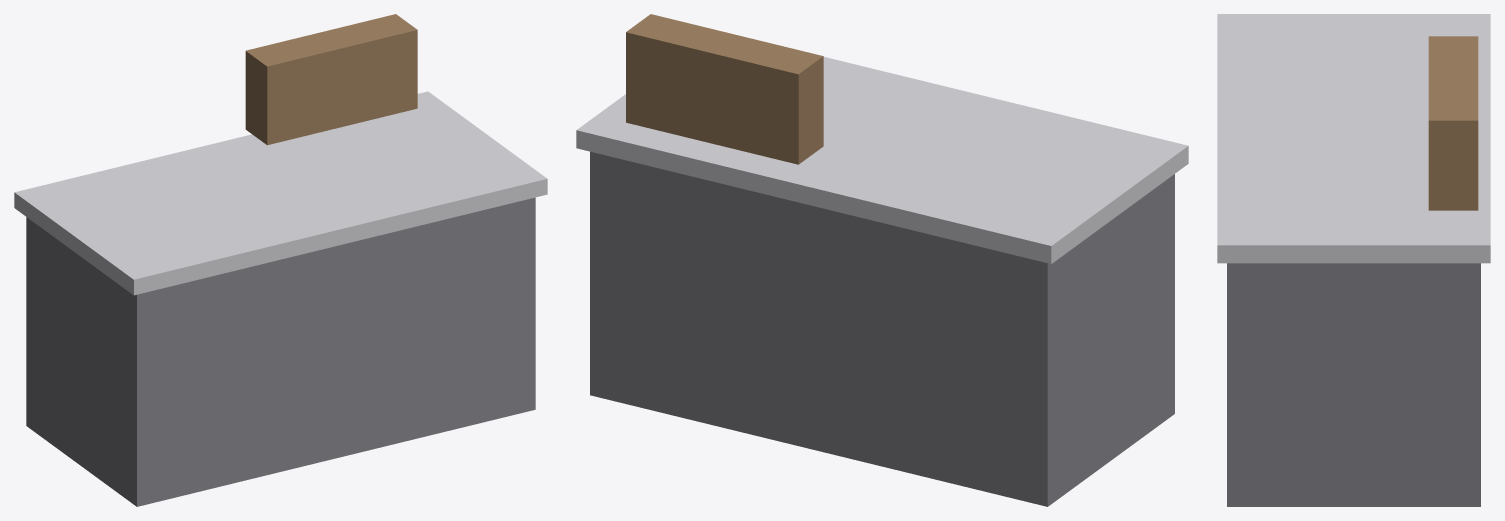
The model's file is cocktail_station.glb.
3 renders of one model, left to right at view 1: azimuth 30°, elevation 25°; view 2: azimuth 150°, elevation 25°; view 3: azimuth 270°, elevation 25°, orthographic. The views are drawn at different scales.
Visible parts, largest first — view 1: body, top, speed_rail; view 2: body, top, speed_rail; view 3: body, top, speed_rail.
Part boxes in pixels (x1=…): body: x1=26, y1=197, x2=535, y2=506; top: x1=14, y1=91, x2=547, y2=295; speed_rail: x1=245, y1=14, x2=417, y2=145; body: x1=590, y1=151, x2=1174, y2=506; top: x1=576, y1=57, x2=1188, y2=263; speed_rail: x1=626, y1=14, x2=823, y2=164; body: x1=1227, y1=263, x2=1480, y2=506; top: x1=1217, y1=14, x2=1490, y2=263; speed_rail: x1=1428, y1=36, x2=1478, y2=210.
Bounding box in the file's own units: 1.1 × 0.82 × 0.55.
